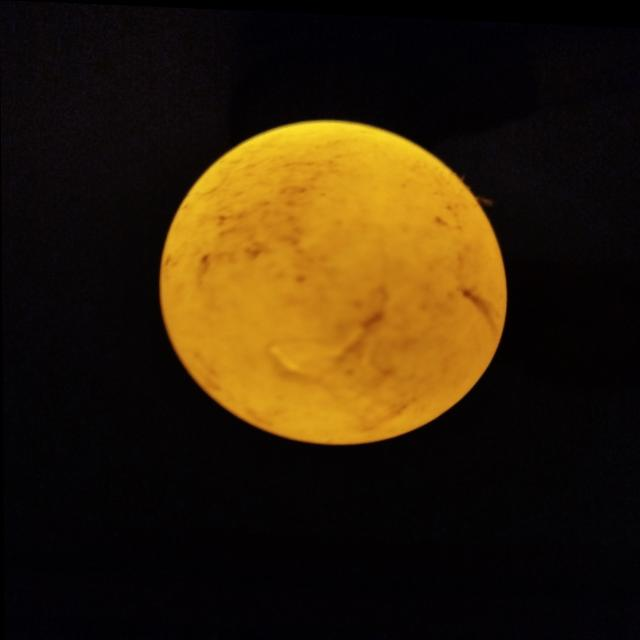Rachadura: (265, 324, 368, 376)
